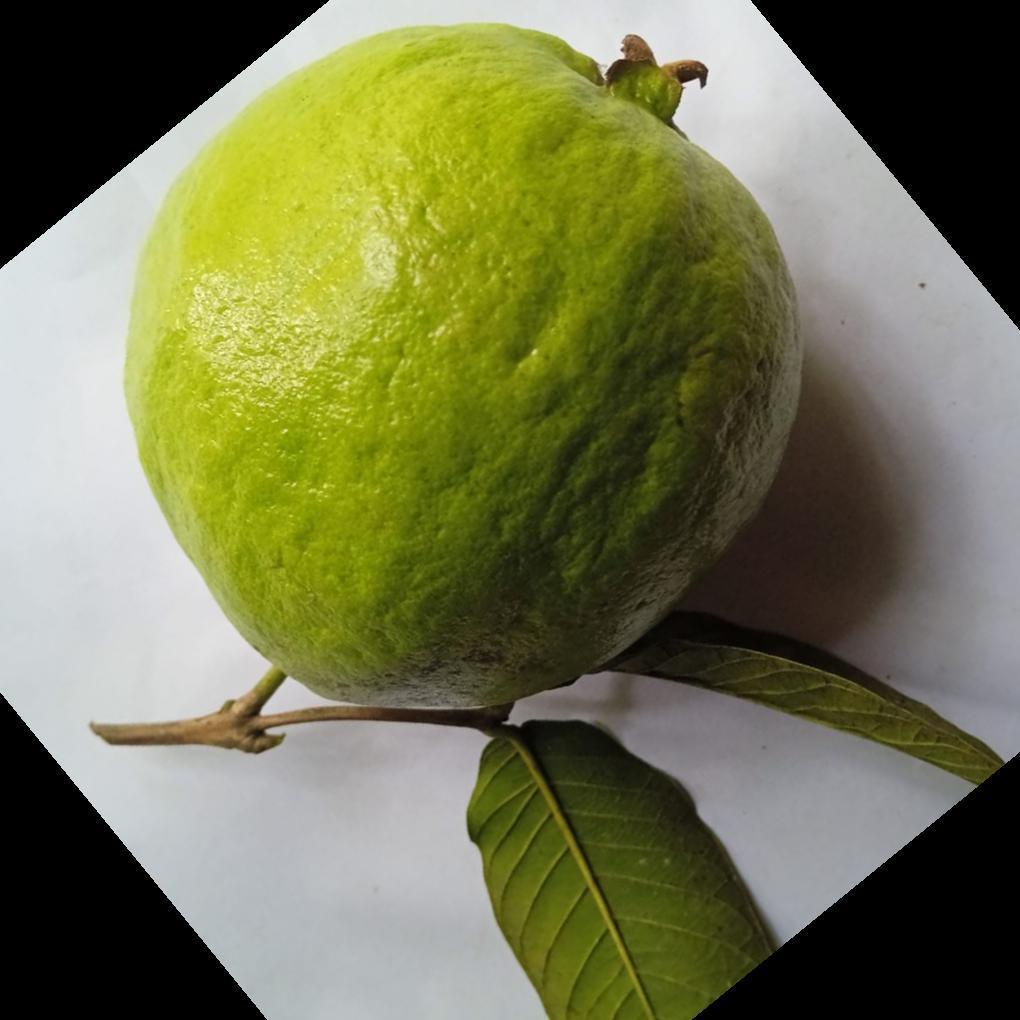FreshGuava: (120, 21, 806, 725)
